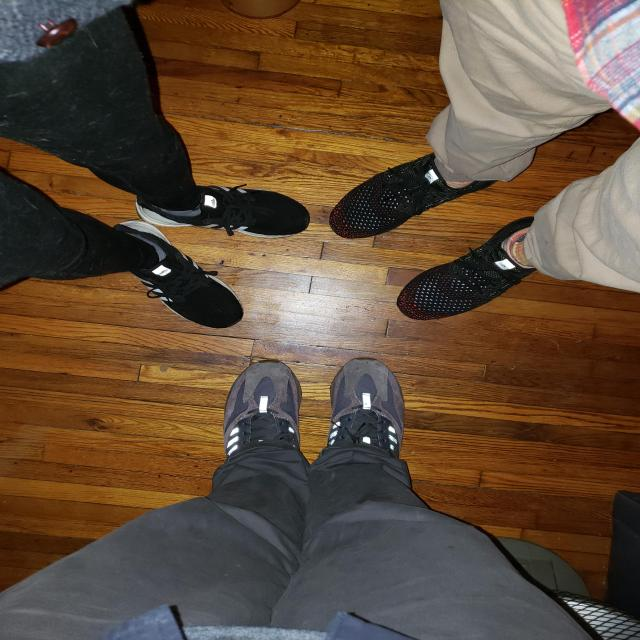shoe: (390, 203, 557, 332), (320, 138, 510, 245), (98, 219, 246, 337), (311, 350, 420, 488), (128, 176, 322, 248), (217, 351, 316, 481)
